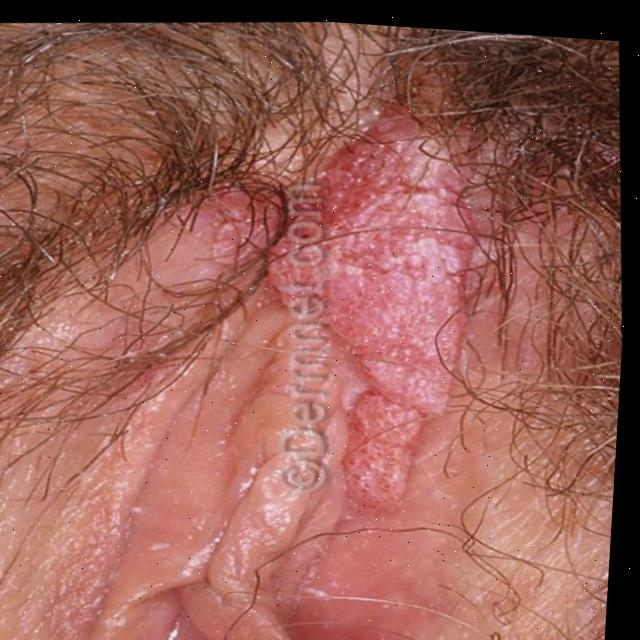Shingles: (252, 95, 496, 523)
